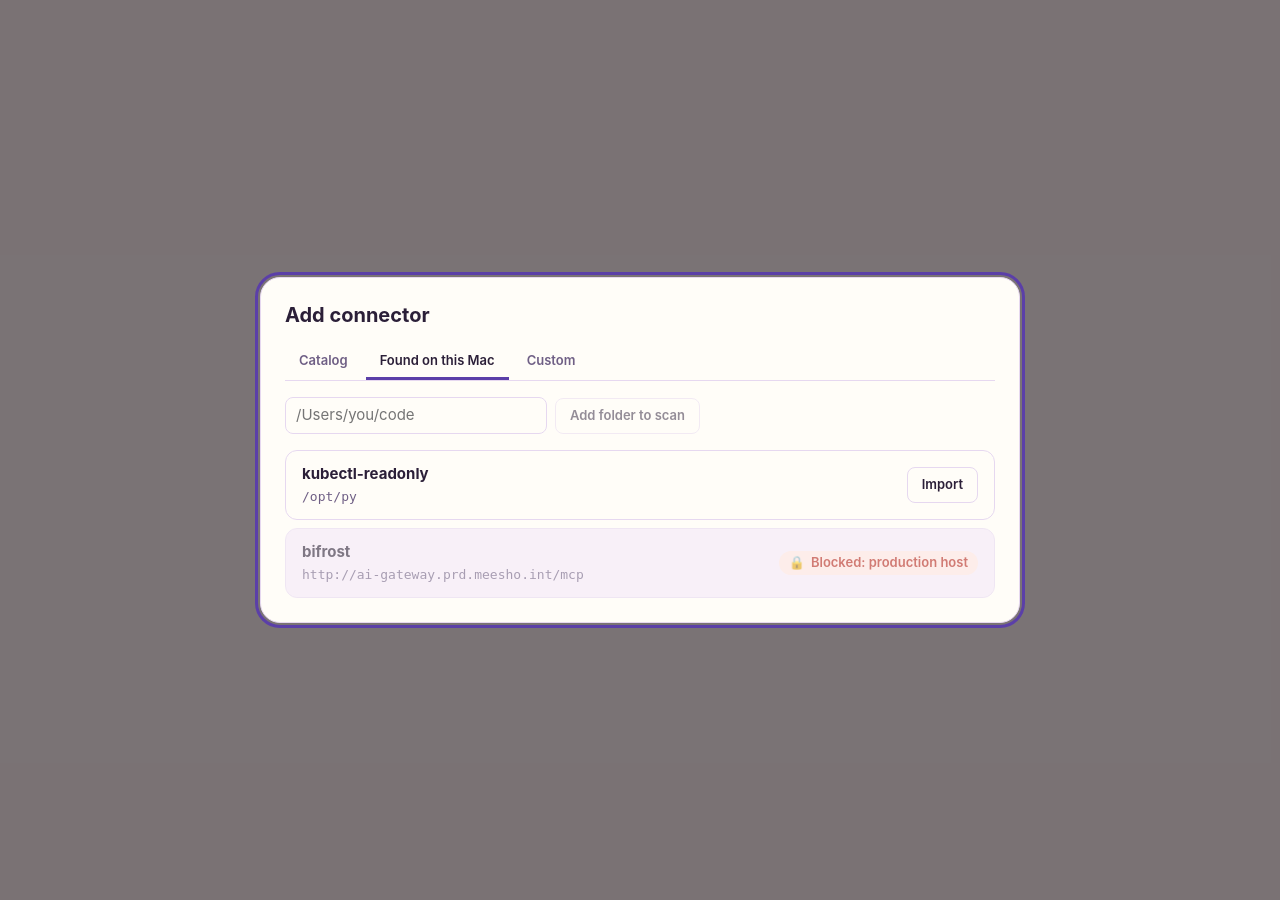
Test: Add connector modal › import shows the exact command and env names before running it
Later steps or results of the test are not shown.
Click the button "Import": (942, 485) [907,467,978,503]
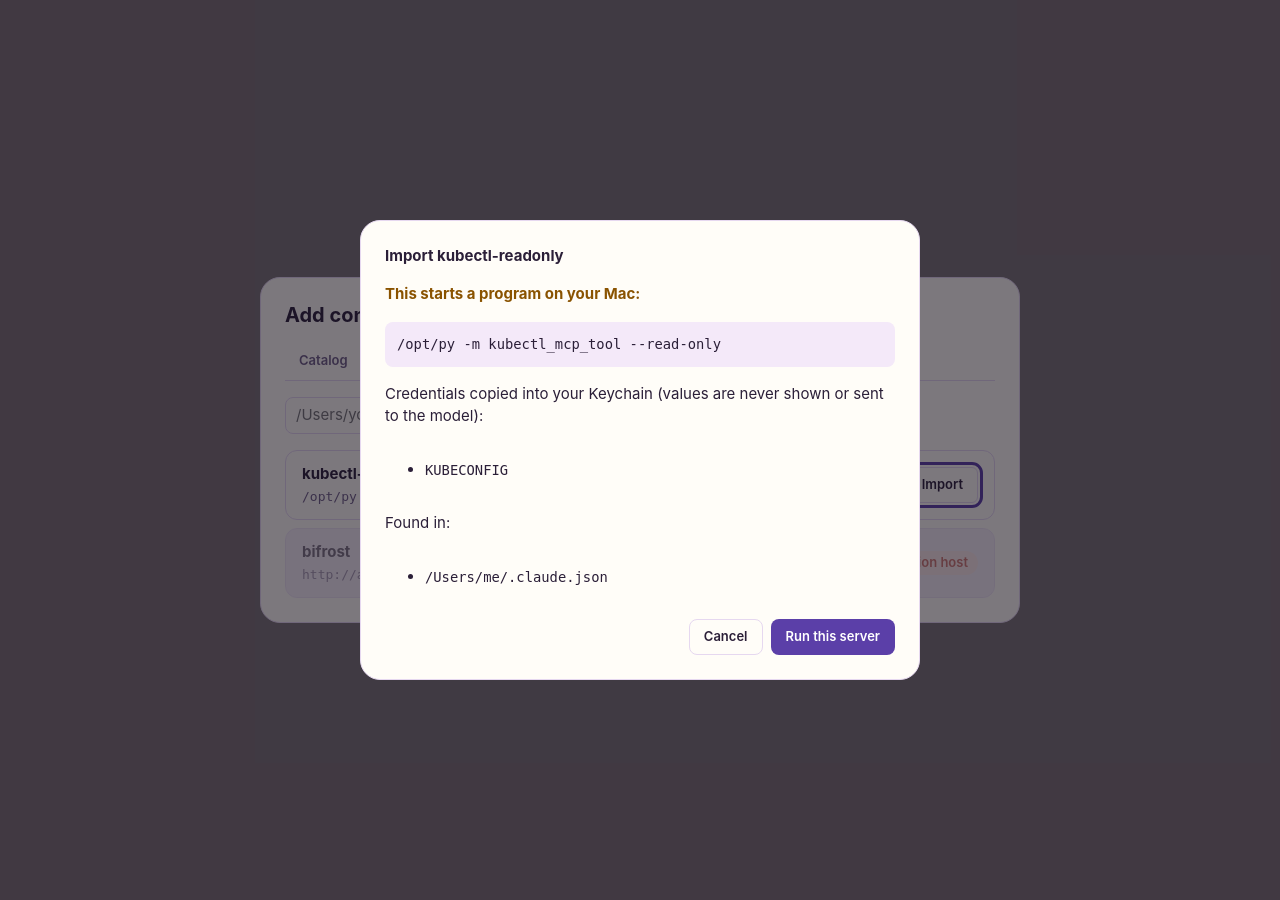
Expected: the text "/opt/py -m kubectl_mcp_tool --read-only" is shown, [385,322,895,367]
Expected: the text "KUBECONFIG" is shown, [425,462,508,478]
Expected: the text "/Users/me/.claude.json" is shown, [425,569,608,585]
